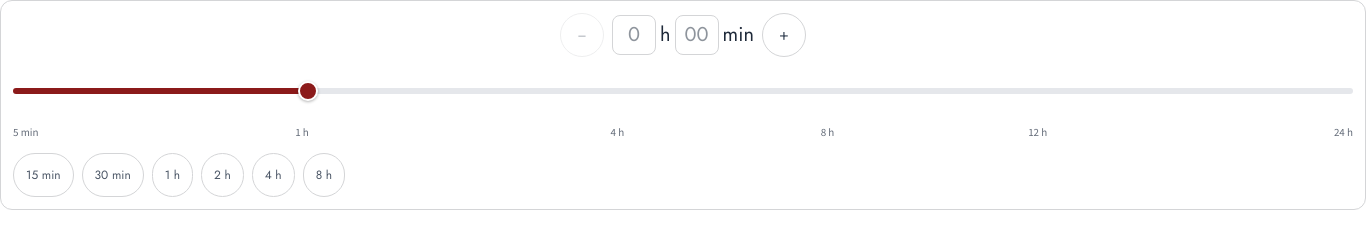
HoursPicker: campos H/MM editables › los campos rechazan caracteres que no son dígitos
This screenshot has width=1366, height=227.
Type "a1b2!" into the field named "Horas" at point(634, 35), box [612, 15, 656, 55]
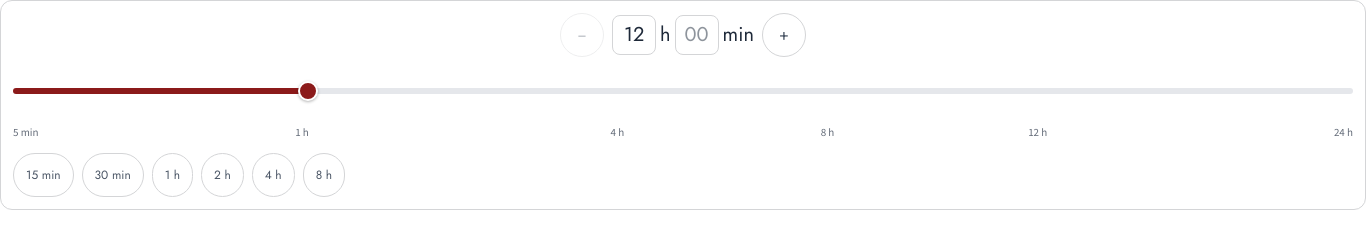
Expected: the field named "Horas" holds "12", [612, 15, 656, 55]
